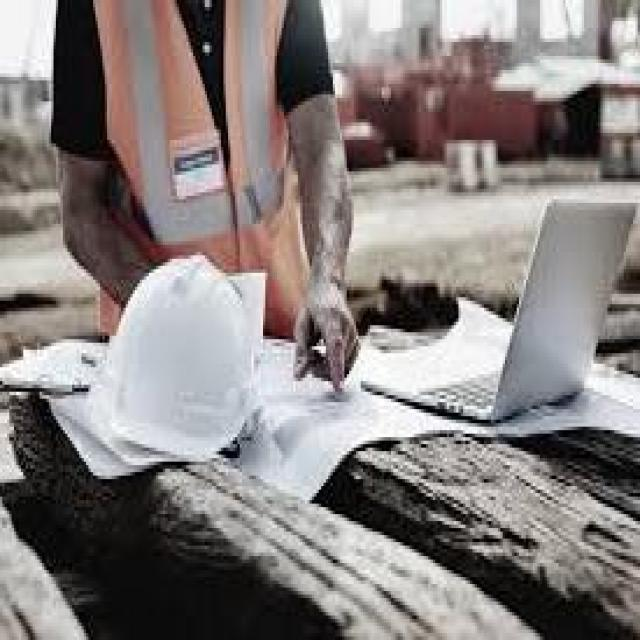Reflective-Jacket: (67, 4, 340, 328)
